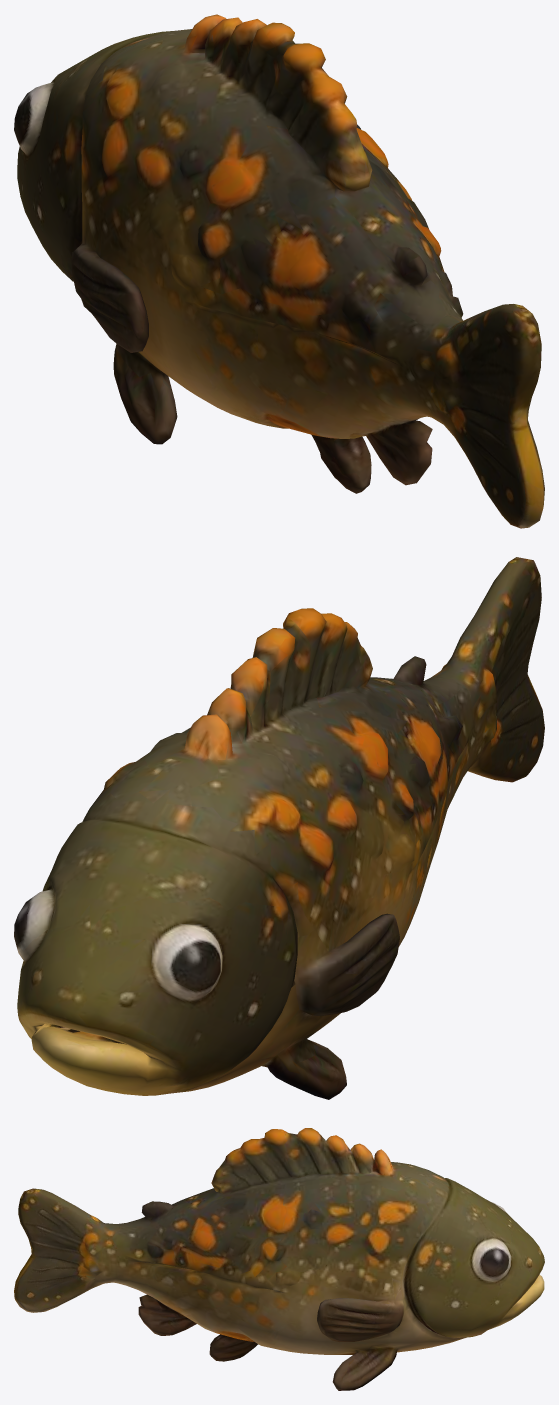
Rendered from noraemi.glb.
The picture shows the model from 3 angles, top to bottom: view 1: azimuth 30°, elevation 25°; view 2: azimuth 150°, elevation 25°; view 3: azimuth 270°, elevation 25°; orthographic projection. The views are drawn at different scales.
Visible parts, largest first — view 1: tripo_node_b59dad48-cb71-4cde-877a-5b25155e08b9; view 2: tripo_node_b59dad48-cb71-4cde-877a-5b25155e08b9; view 3: tripo_node_b59dad48-cb71-4cde-877a-5b25155e08b9.
Boxes of the visible parts, left/top/right/bottom form: tripo_node_b59dad48-cb71-4cde-877a-5b25155e08b9: left=14, top=14, right=544, bottom=528; tripo_node_b59dad48-cb71-4cde-877a-5b25155e08b9: left=14, top=557, right=544, bottom=1099; tripo_node_b59dad48-cb71-4cde-877a-5b25155e08b9: left=14, top=1128, right=544, bottom=1390.
Bounding box in the file's own units: 0.344 × 0.4906 × 1.
Materials: 1 (1 with a texture image).
